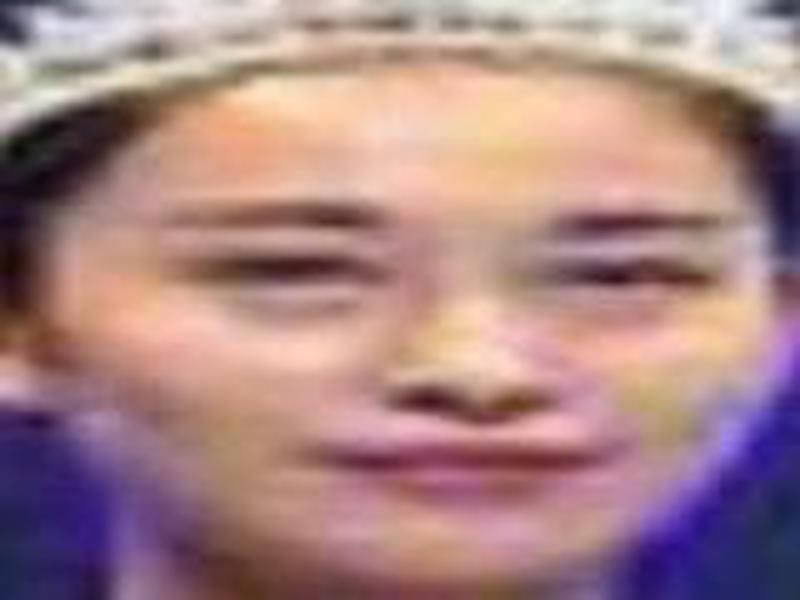without_mask: (65, 67, 778, 600)
